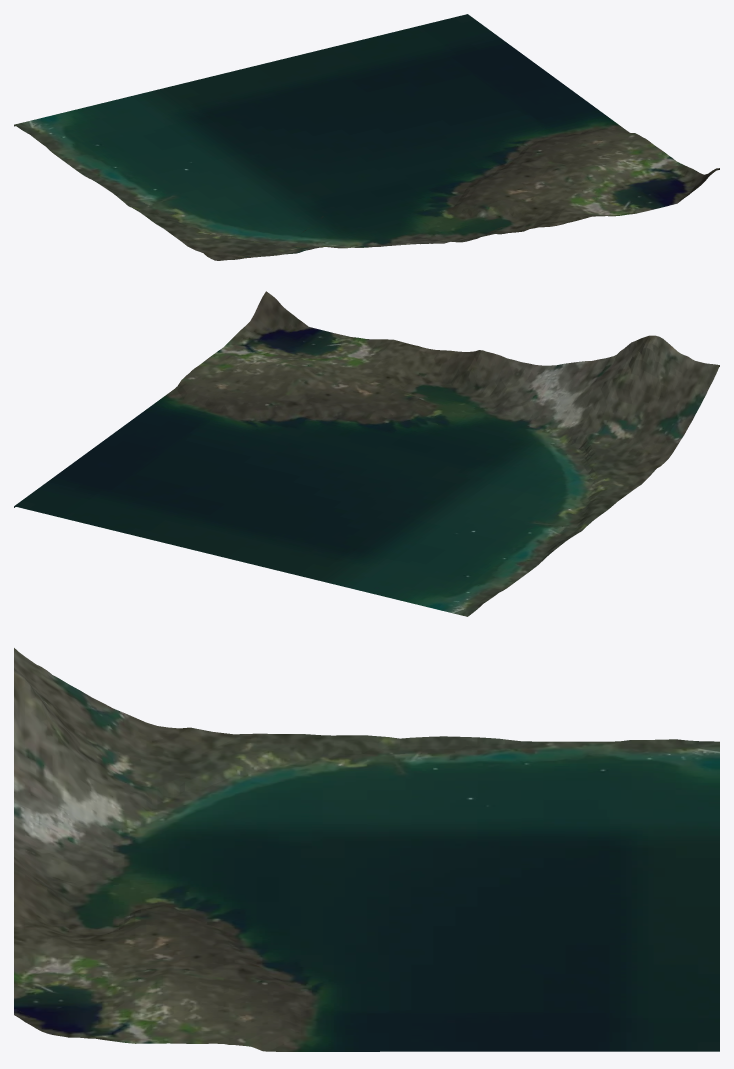
The picture shows the model from 3 angles, top to bottom: view 1: azimuth 30°, elevation 25°; view 2: azimuth 150°, elevation 25°; view 3: azimuth 270°, elevation 25°; orthographic projection. The views are drawn at different scales.
Bounding box in the file's own units: 250 × 43.73 × 241.
Materials: 1 (1 with a texture image).
